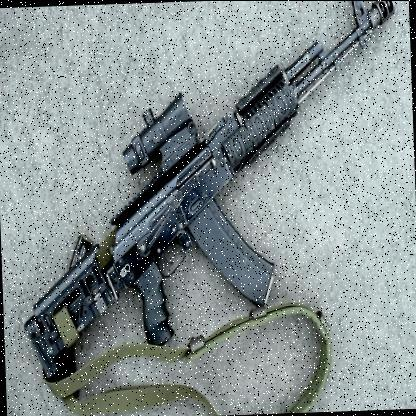rifle: (10, 0, 384, 397)
